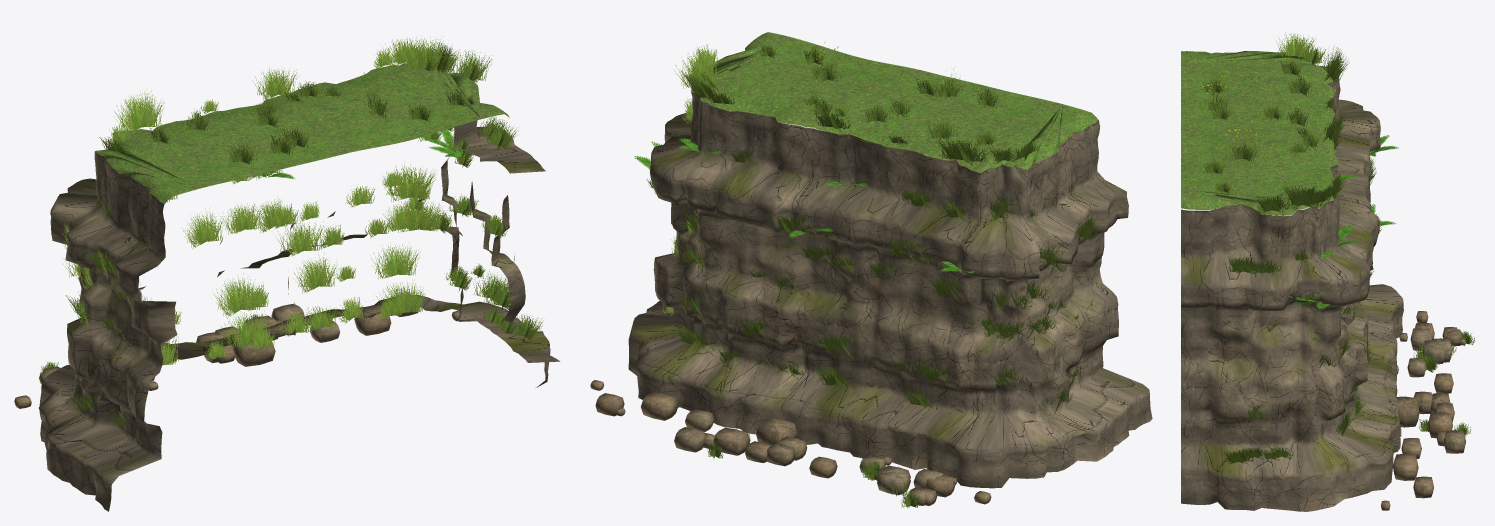
File: cliff-face.glb
The picture shows the model from 3 angles, left to right: view 1: azimuth 30°, elevation 25°; view 2: azimuth 150°, elevation 25°; view 3: azimuth 270°, elevation 25°; orthographic projection. The views are drawn at different scales.
Parts seen in each view (by area): view 1: cliff_face_basalt, cliff_face_grass, cliff_face_lawn, cliff_face_fern; view 2: cliff_face_basalt, cliff_face_lawn, cliff_face_grass, cliff_face_fern; view 3: cliff_face_basalt, cliff_face_lawn, cliff_face_grass, cliff_face_fern.
Boxes of the visible parts, left/top/right/bottom form: cliff_face_basalt: left=14, top=120, right=560, bottom=511; cliff_face_grass: left=40, top=36, right=543, bottom=458; cliff_face_lawn: left=95, top=63, right=509, bottom=204; cliff_face_fern: left=260, top=129, right=471, bottom=178; cliff_face_basalt: left=590, top=87, right=1152, bottom=505; cliff_face_lawn: left=691, top=32, right=1098, bottom=172; cliff_face_grass: left=646, top=41, right=1124, bottom=508; cliff_face_fern: left=634, top=138, right=974, bottom=274; cliff_face_basalt: left=1181, top=64, right=1465, bottom=511; cliff_face_lawn: left=1181, top=51, right=1340, bottom=215; cliff_face_grass: left=1200, top=32, right=1475, bottom=464; cliff_face_fern: left=1288, top=135, right=1398, bottom=309.
Size of the model in its own units: 6.81 by 4.69 by 3.99.
Materials: 4 (4 with a texture image).
